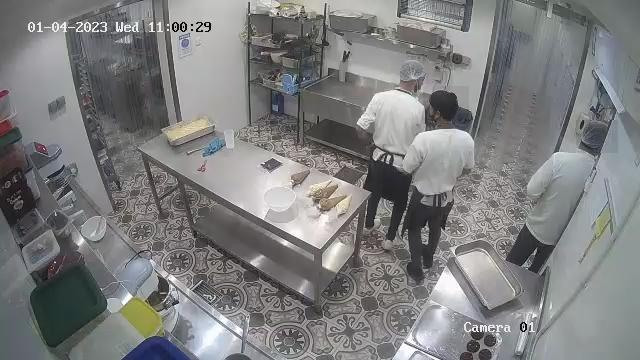gloves: (424, 87, 470, 125), (577, 121, 619, 154), (392, 55, 429, 89)
mask: (426, 106, 442, 128)
